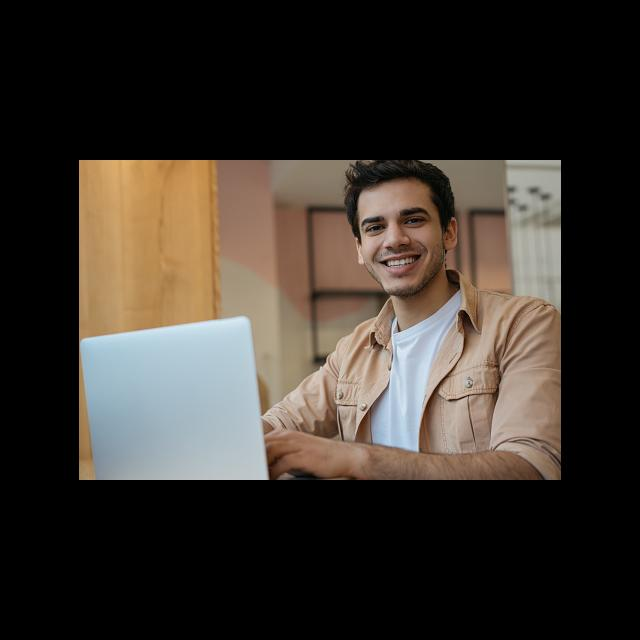male: (339, 160, 478, 309)
